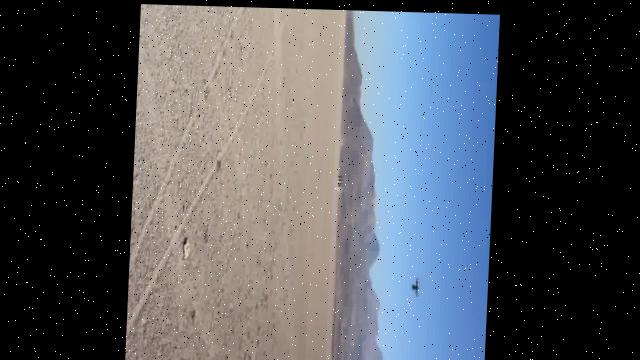drone: (411, 273, 425, 297)
